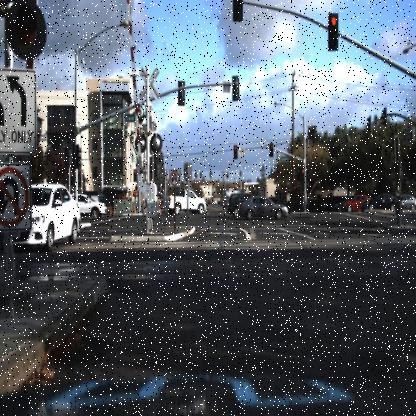car: (5, 178, 84, 246), (7, 184, 82, 249), (238, 192, 288, 223), (161, 187, 207, 218), (338, 185, 374, 221), (63, 192, 107, 220), (362, 191, 404, 214), (344, 192, 374, 215), (372, 190, 393, 214), (394, 190, 414, 211)
trafficLight: (7, 1, 45, 57), (232, 0, 244, 22)
trafficLight-Red: (327, 12, 339, 51), (268, 138, 276, 160), (232, 141, 238, 162), (300, 164, 306, 185)
